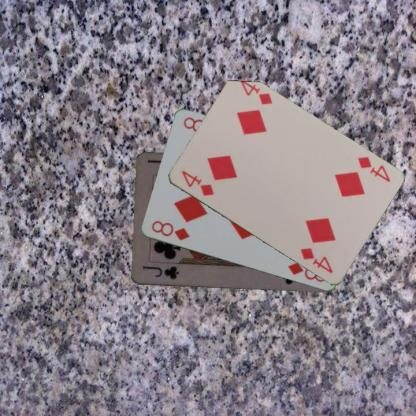4d: (178, 168, 215, 198), (355, 154, 391, 183)
8d: (148, 218, 190, 242)
Jc: (139, 263, 180, 281)
